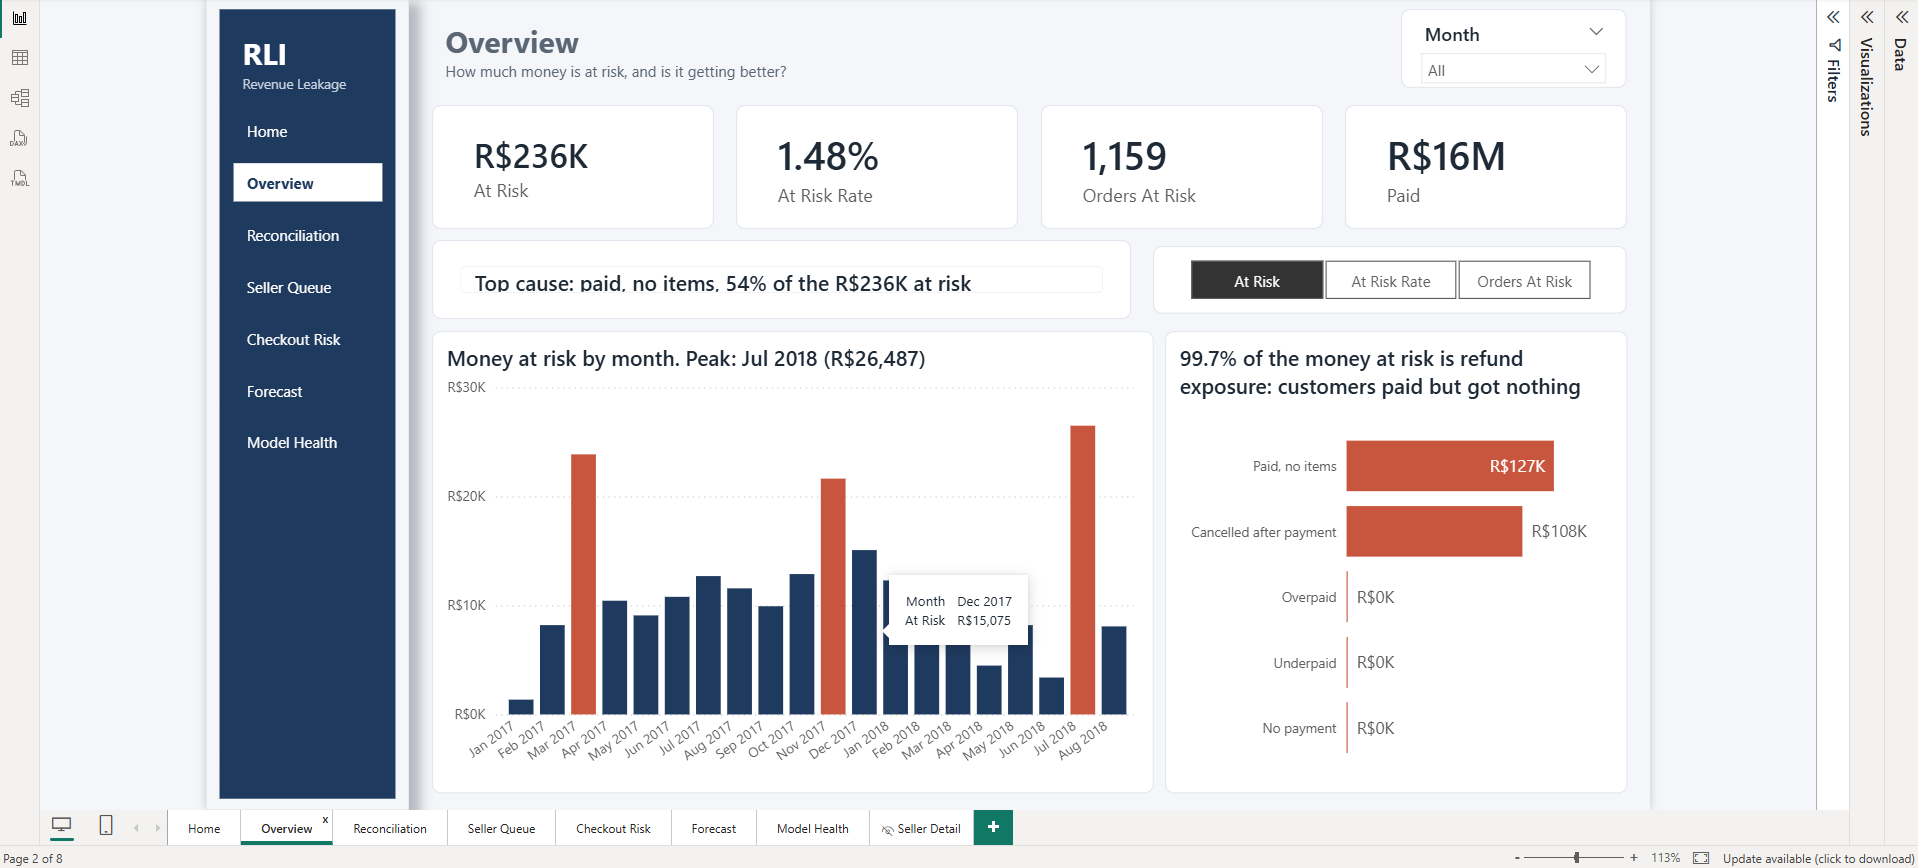

What the dashboard file says about the page in this screenshot:
{"tool":"powerbi","page":{"name":"Overview","canvas":[1280,720],"ordinal":1},"visuals":[{"type":"shape","box":[0,0,180,720],"z":0},{"type":"pageNavigator","box":[12,90,156,330],"z":1000},{"type":"textbox","box":[20,20,150,78],"z":2000},{"type":"textbox","box":[200,10,600,75],"z":3000},{"type":"slicer","fields":{"Values":["DimDate.Month"]},"box":[1060,10,200,70],"z":3001},{"type":"cardVisual","fields":{"Data":["_Measures.At Risk"]},"box":[200,95,250,110],"z":3002},{"type":"cardVisual","fields":{"Data":["_Measures.At Risk Rate"]},"box":[470,95,250,110],"z":3003},{"type":"cardVisual","fields":{"Data":["DimDate.Orders At Risk Text"]},"box":[740,95,250,110],"z":3004},{"type":"cardVisual","fields":{"Data":["_Measures.Paid"]},"box":[1010,95,250,110],"z":3005},{"type":"cardVisual","fields":{"Data":["_Measures.Insight"]},"box":[200,215,620,70],"z":3006},{"type":"columnChart","fields":{"Category":["DimDate.Month"],"Y":["_Measures.At Risk"]},"box":[200,295,640,410],"z":3007},{"type":"barChart","fields":{"Y":["_Measures.At Risk"],"Category":["mart_order_reconciliation.Reason"]},"box":[850,295,410,410],"z":3008},{"type":"slicer","fields":{"Values":["Metric.Metric"]},"box":[840,220,420,60],"z":3009}]}

Visuals, with their boxes on the page's 1280x720 design canvas (x1, y1, x2, y2). These are canvas units, not pixel positions in the 1918x868 screenshot, which may show the page scaled, cropped or inside an application window:
shape: x1=0 y1=0 x2=180 y2=720
pageNavigator: x1=12 y1=90 x2=168 y2=420
textbox: x1=20 y1=20 x2=170 y2=98
textbox: x1=200 y1=10 x2=800 y2=85
slicer - DimDate.Month: x1=1060 y1=10 x2=1260 y2=80
cardVisual - _Measures.At Risk: x1=200 y1=95 x2=450 y2=205
cardVisual - _Measures.At Risk Rate: x1=470 y1=95 x2=720 y2=205
cardVisual - DimDate.Orders At Risk Text: x1=740 y1=95 x2=990 y2=205
cardVisual - _Measures.Paid: x1=1010 y1=95 x2=1260 y2=205
cardVisual - _Measures.Insight: x1=200 y1=215 x2=820 y2=285
columnChart - DimDate.Month x _Measures.At Risk: x1=200 y1=295 x2=840 y2=705
barChart - _Measures.At Risk x mart_order_reconciliation.Reason: x1=850 y1=295 x2=1260 y2=705
slicer - Metric.Metric: x1=840 y1=220 x2=1260 y2=280
